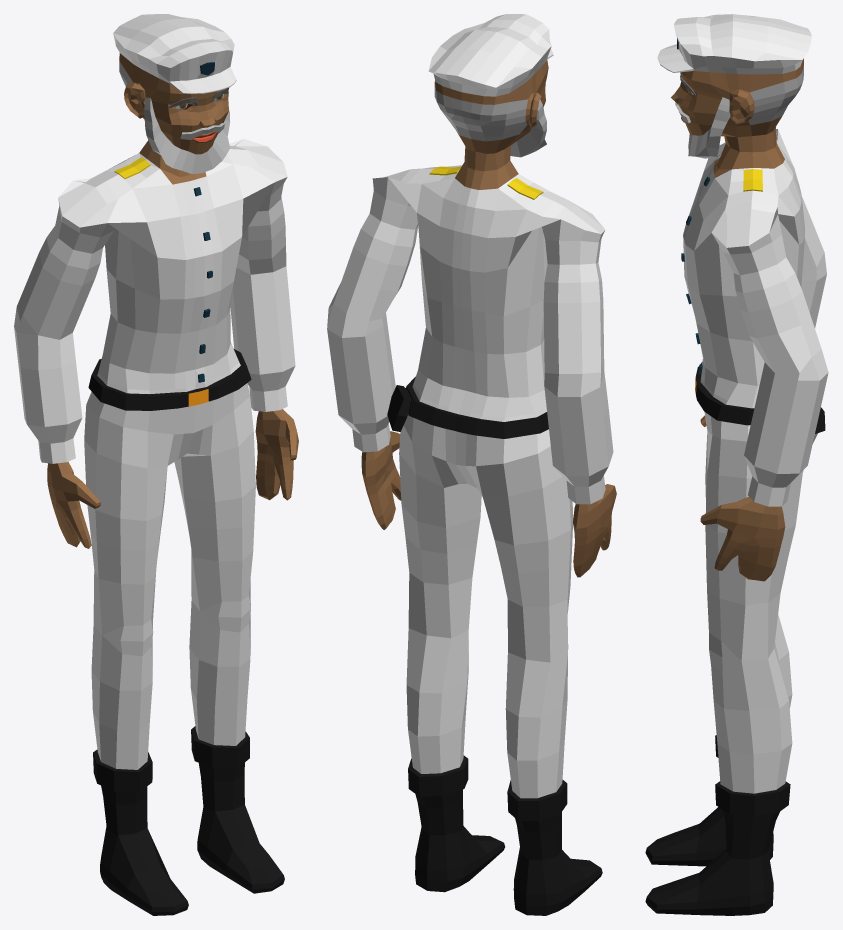
The model's file is TrafficPolice_Stand.fbx.
3 renders of one model, left to right at view 1: azimuth 30°, elevation 25°; view 2: azimuth 150°, elevation 25°; view 3: azimuth 270°, elevation 25°, orthographic.
Visible parts, largest first — view 1: TrafficPolice_Stand; view 2: TrafficPolice_Stand; view 3: TrafficPolice_Stand.
Boxes of the visible parts, x1,y1,x2,y2 form: TrafficPolice_Stand: (14, 14, 298, 915); TrafficPolice_Stand: (327, 14, 616, 915); TrafficPolice_Stand: (645, 14, 828, 915).
Size of the model in its own units: 0.324 by 0.9819 by 0.1896.
